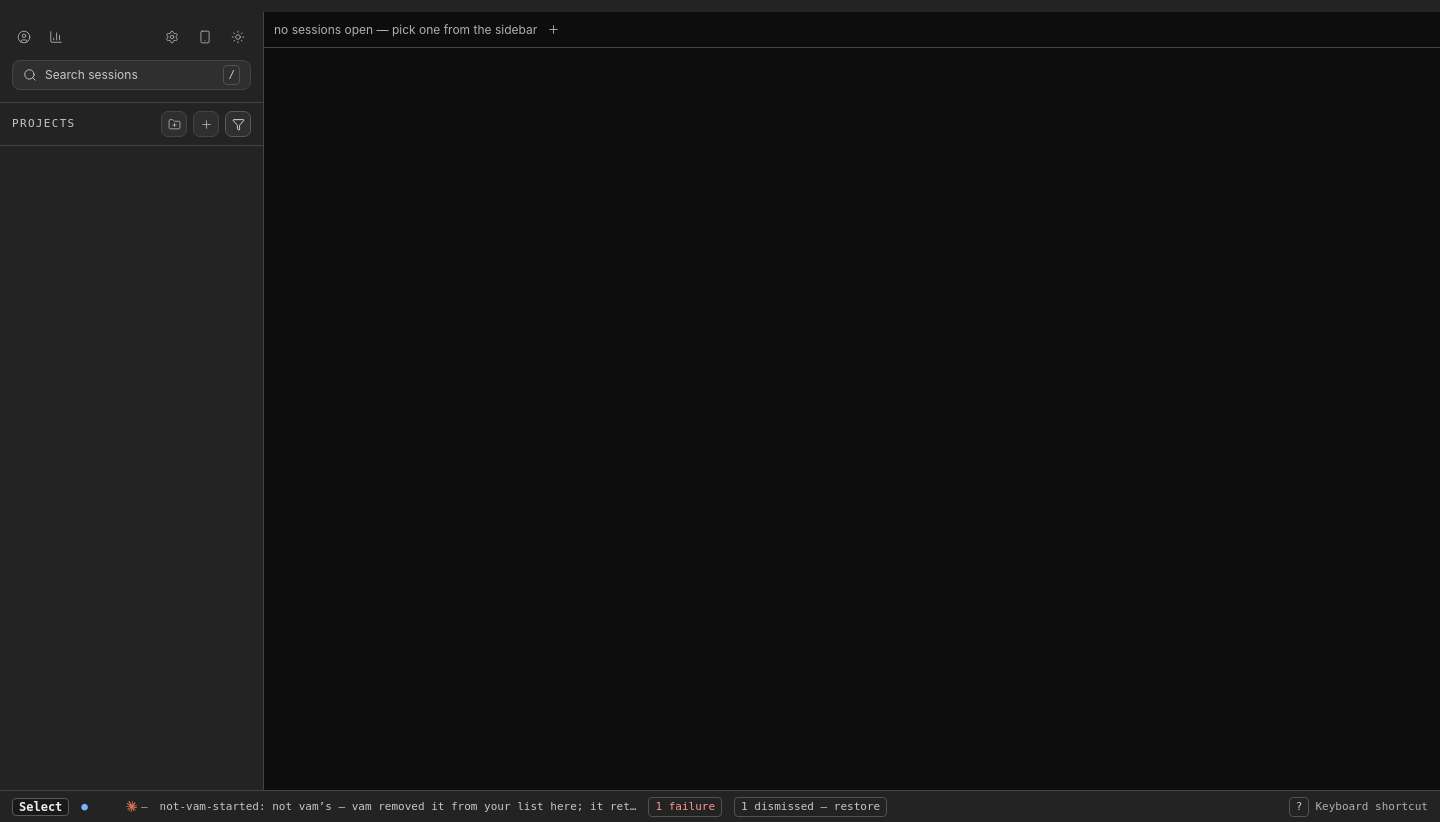
Scenario: the dismissed count and its one-click undo › shows a count once something is dismissed, and restores everything on click
Click the button "1 dismissed — restore" at (811, 806), box [734,796,887,816]
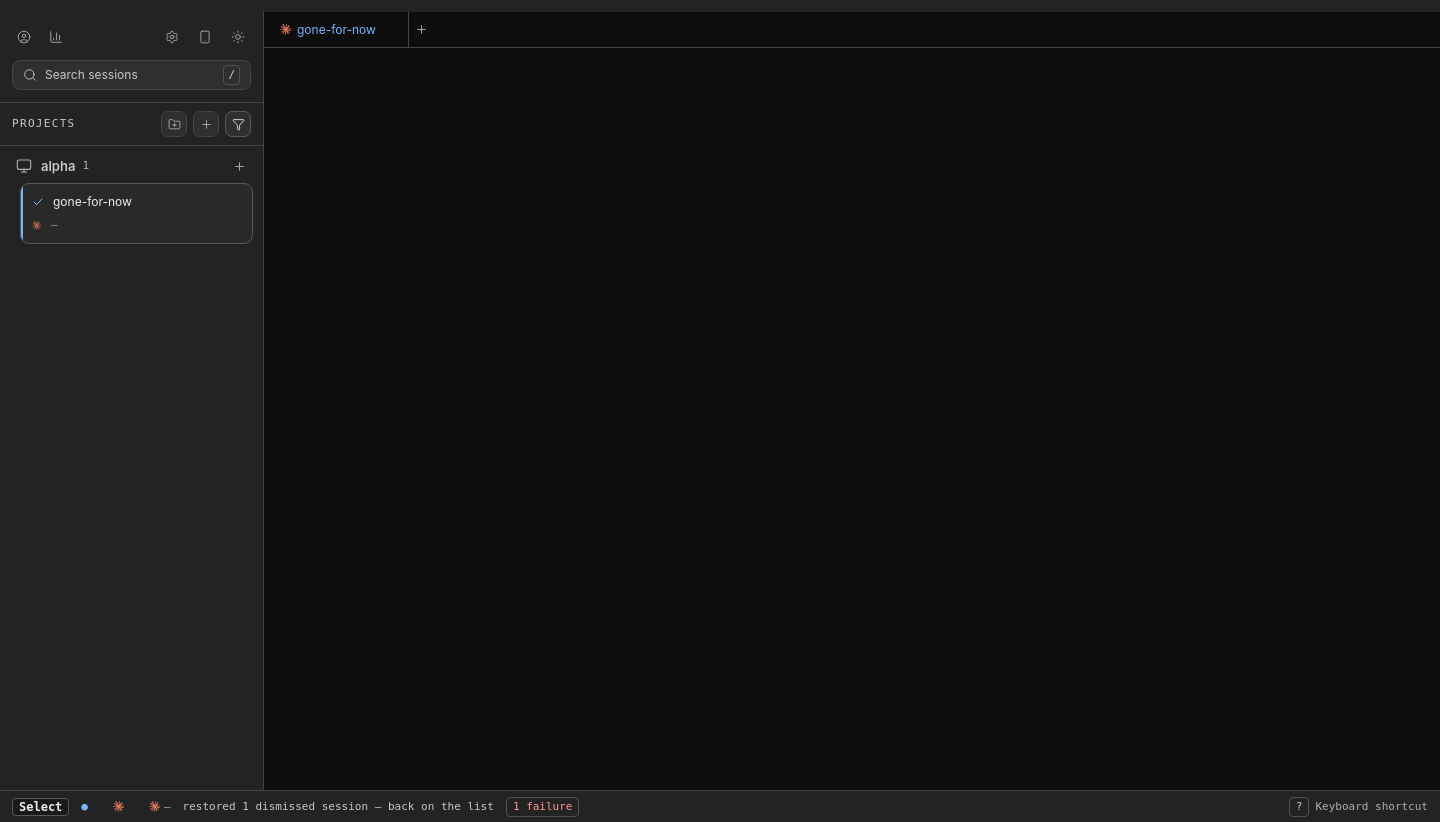
Expected: the element showing "Search sessions / Projects alpha 1 gone-for-now —" is shown, [0,12,264,790]
